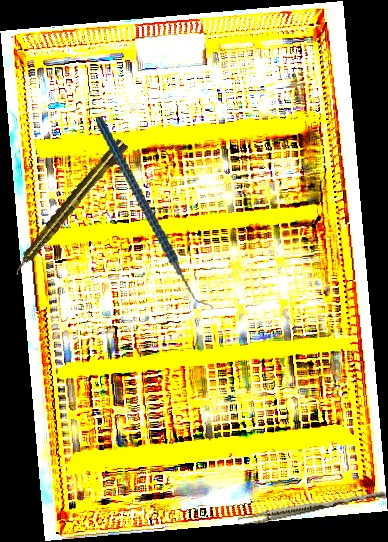Chopper: (95, 104, 214, 322)
Handpiece: (8, 137, 130, 278)
Tissue Forceps: (237, 485, 387, 530)
